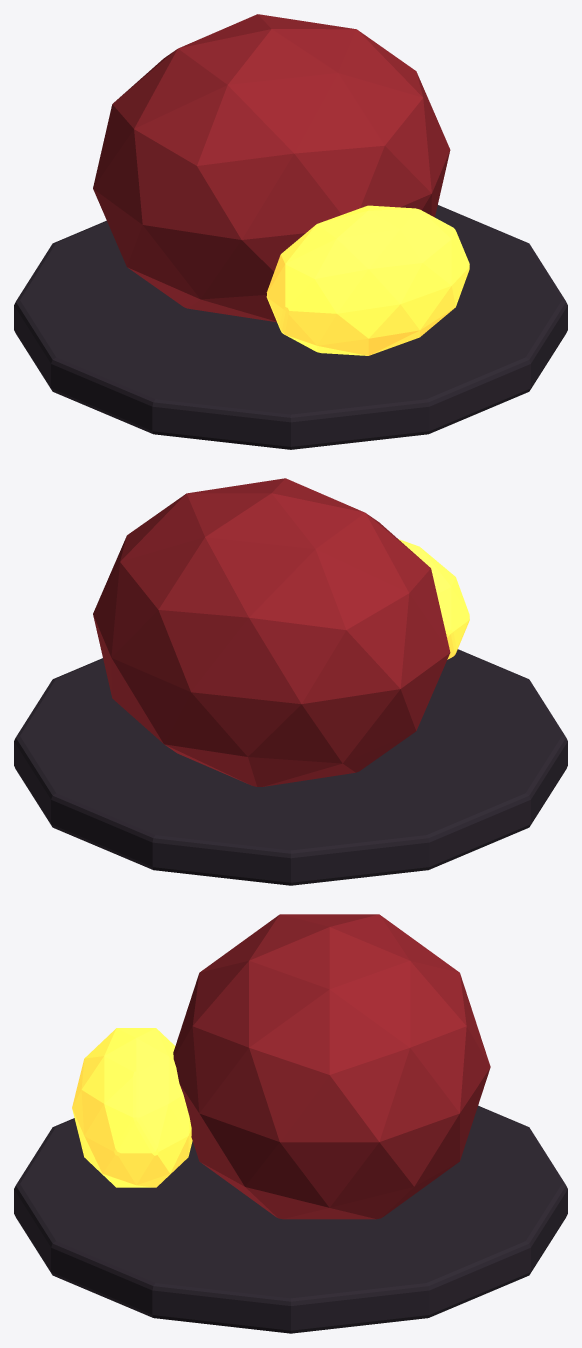
File: alien_refinery.glb
3 renders of one model, top to bottom at view 1: azimuth 30°, elevation 25°; view 2: azimuth 150°, elevation 25°; view 3: azimuth 270°, elevation 25°, orthographic.
Visible parts, largest first — view 1: Digestor, Foundation, OreMaw; view 2: Digestor, Foundation, OreMaw; view 3: Digestor, Foundation, OreMaw.
Part boxes in pixels (<box>): Digestor: <box>93,14,450,322</box>; Foundation: <box>14,205,567,449</box>; OreMaw: <box>266,205,469,355</box>; Digestor: <box>93,478,450,786</box>; Foundation: <box>14,649,567,885</box>; OreMaw: <box>398,539,469,659</box>; Digestor: <box>173,914,490,1219</box>; Foundation: <box>14,1105,567,1333</box>; OreMaw: <box>72,1028,192,1187</box>.
Size of the model in its own units: 1.72 by 1 by 1.72.
